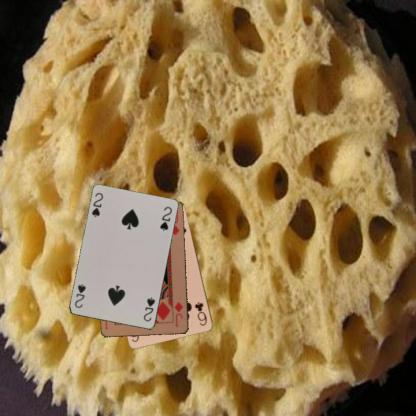2s: (141, 295, 157, 323), (89, 190, 105, 218)
6c: (192, 299, 208, 327)
Jd: (171, 299, 185, 328)
